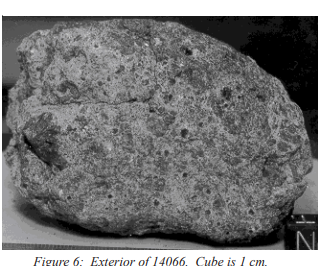Breccia: (17, 27, 292, 228), (111, 67, 269, 215)
